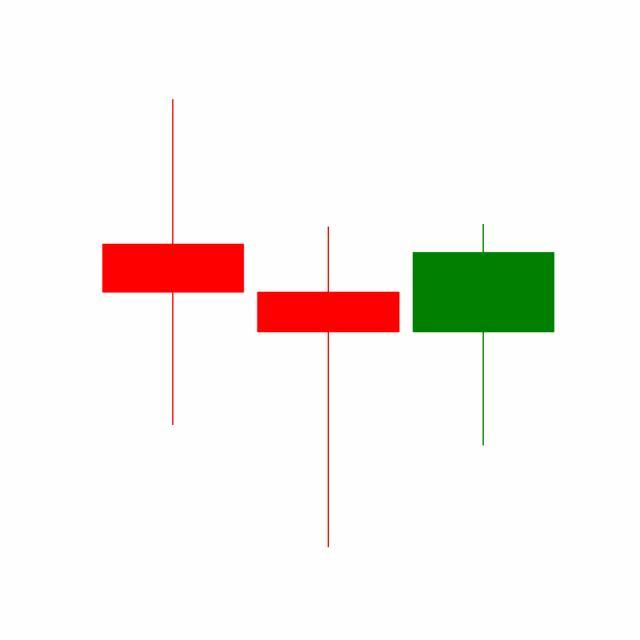Hammer: (250, 223, 407, 551)
